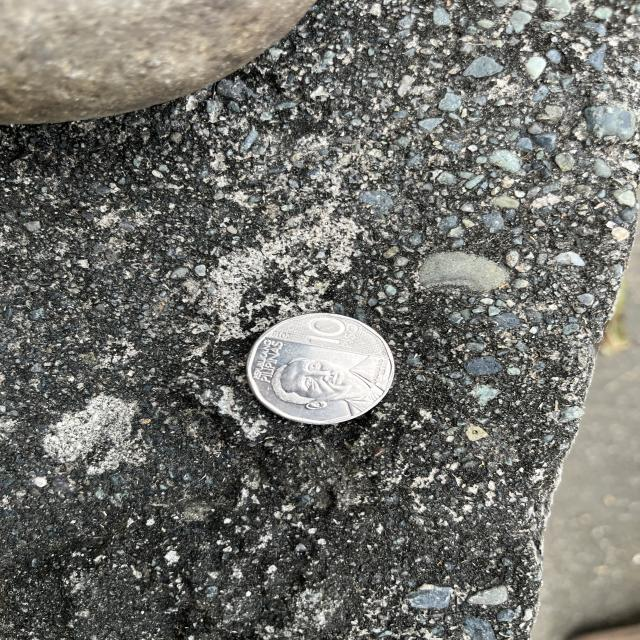10_New_Front: (302, 314, 366, 350)
